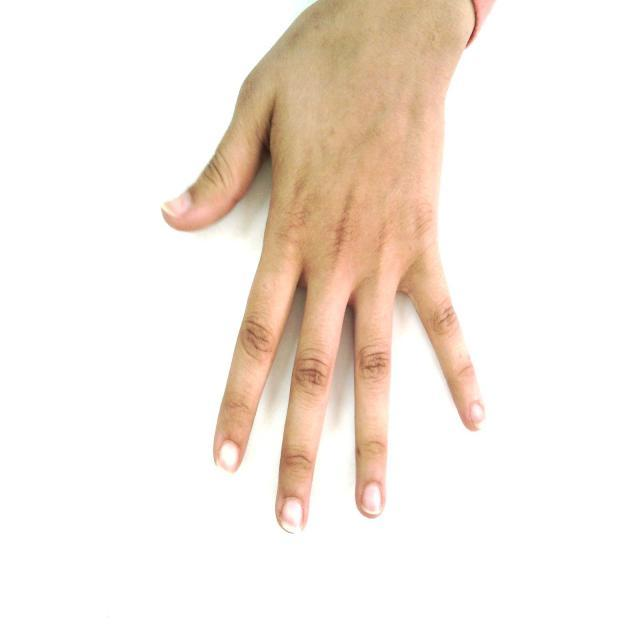Fingernail: (281, 498, 302, 533), (164, 193, 190, 217), (362, 483, 382, 514), (220, 442, 238, 472), (471, 403, 483, 423)
